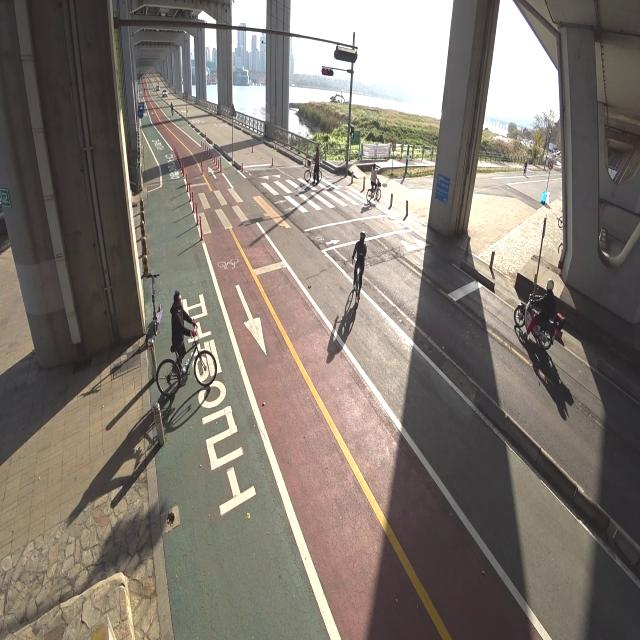Car: (160, 84, 170, 102), (153, 81, 160, 96)
Motorcycle: (512, 276, 567, 357)
